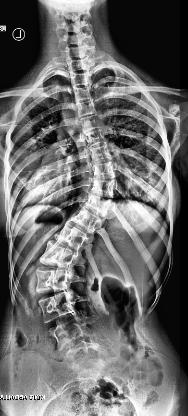Vertebrae: (40, 318, 104, 346), (30, 295, 86, 318), (23, 270, 78, 292), (76, 142, 126, 166), (31, 242, 80, 266), (79, 160, 131, 182), (76, 192, 120, 216), (45, 226, 95, 246), (62, 211, 112, 231), (80, 178, 124, 198), (74, 113, 110, 133), (77, 128, 115, 146), (68, 99, 103, 118), (66, 70, 96, 90), (68, 84, 97, 102)
